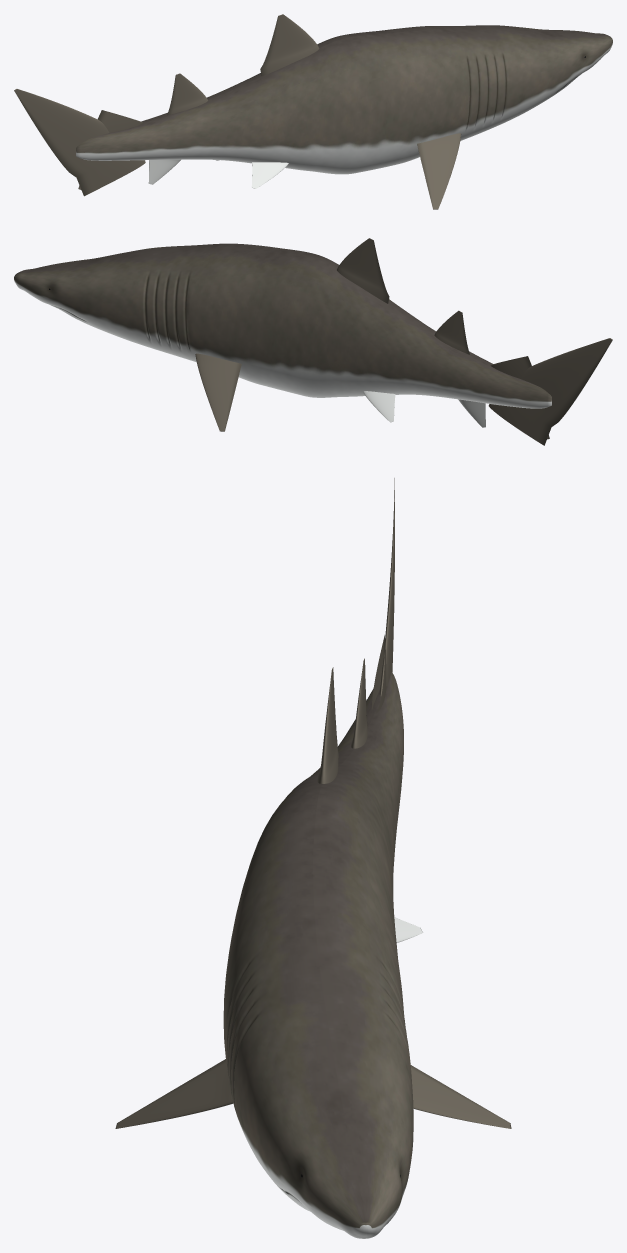
Rendered from sand_tiger_shark.glb.
3 views of the same model, one above another, from view 1: azimuth 30°, elevation 25°; view 2: azimuth 150°, elevation 25°; view 3: azimuth 270°, elevation 25° (orthographic). The views are drawn at different scales.
Parts seen in each view (by area): view 1: SandTigerShark_Body, SandTigerShark_Fins; view 2: SandTigerShark_Body, SandTigerShark_Fins; view 3: SandTigerShark_Body, SandTigerShark_Fins.
Part boxes in pixels (<box>): SandTigerShark_Body: <box>76,25,612,174</box>; SandTigerShark_Fins: <box>14,14,461,209</box>; SandTigerShark_Body: <box>14,243,551,408</box>; SandTigerShark_Fins: <box>195,238,612,445</box>; SandTigerShark_Body: <box>223,672,413,1238</box>; SandTigerShark_Fins: <box>115,478,511,1128</box>.
Size of the model in its own units: 2.5 by 0.7296 by 0.7256.
3 materials, 1 textured.
